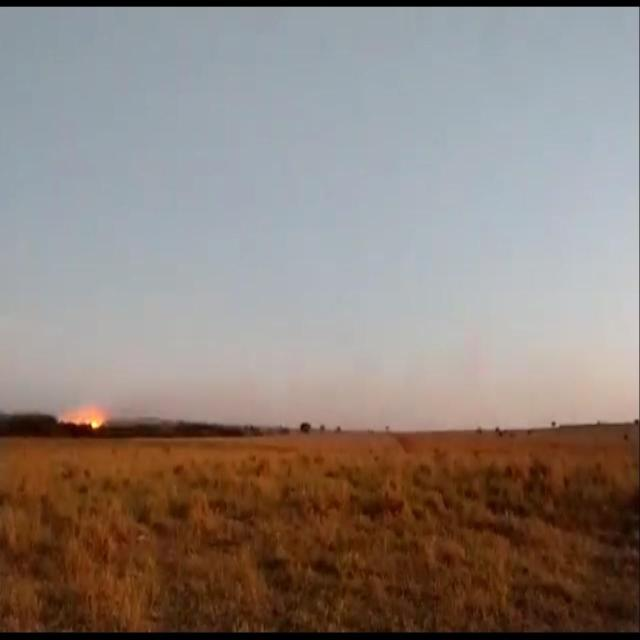Fire: (90, 416, 100, 429)
